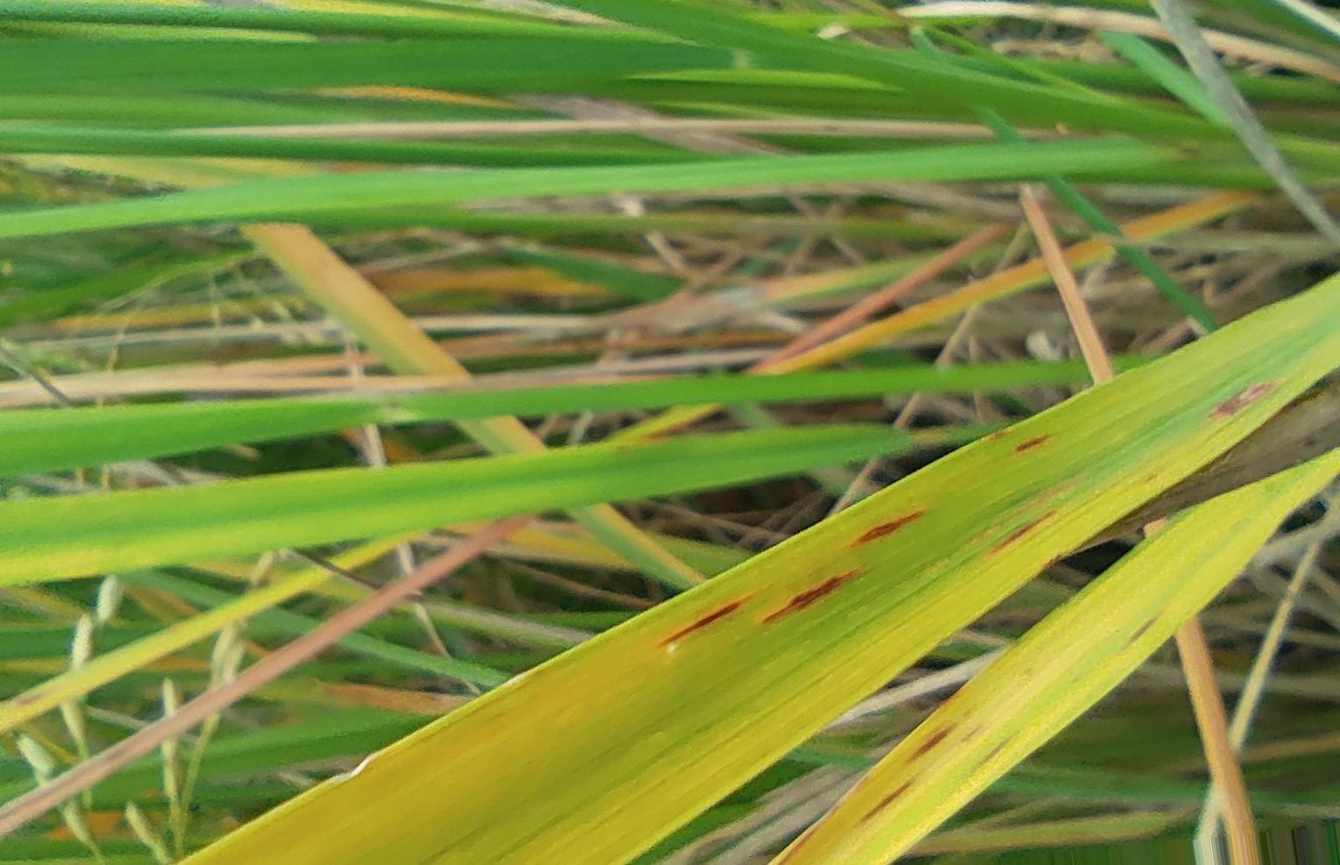LEAF: (191, 280, 1339, 864)
NBS: (760, 563, 867, 626), (657, 593, 753, 647), (1206, 378, 1282, 422), (849, 509, 927, 550), (991, 509, 1055, 555), (1014, 434, 1052, 454)
